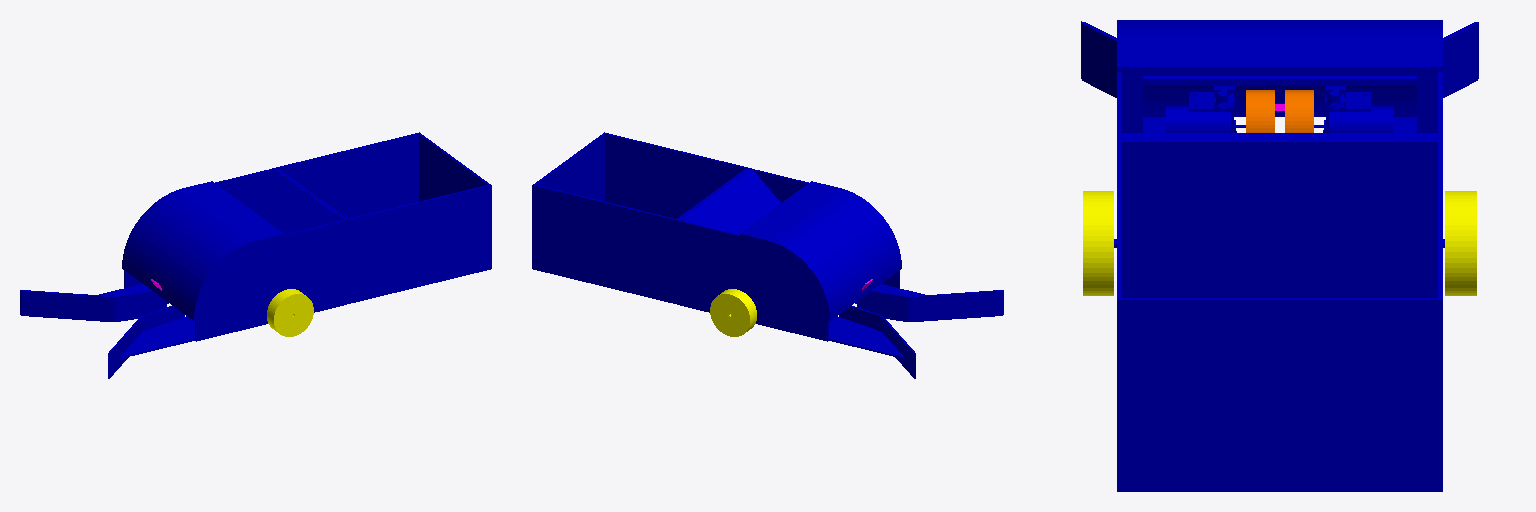
The robot description file, URDF, robot "TRR":
<!-- ======================================== Author: [author] ========================================  -->

<!-- ================================== Tennis ball Retrieval Robot =================================== -->
<robot name="TRR">

<!-- ============================================= Colors ============================================= -->
  <!-- Orange-->
  <material name="orange">
    <color rgba="1.0 0.5 0.0 1.0"/>
  </material>

  <!-- Blue--> 
  <material name="blue">
    <color rgba="0 0 0.8 1"/>
  </material>

  <!-- Yellow-->
  <material name="yellow">
    <color rgba="1 1 0 1"/>
  </material>

  <!-- Purple-->
  <material name="purple">
    <color rgba="1 0 1 1"/>
  </material>


<!-- ============================================= Components ============================================ -->
  <!-- Base-->
  <link name="base_link">
  </link>

  <!-- Frame-->
  <link name="frame_link">
    <visual>
      <material name="blue"/>
      <geometry>
        <mesh filename="package://my_robot/meshes/base2.stl" scale="0.001 0.001 0.001"/>
      </geometry>
      <origin xyz="0 0 0" rpy="0 0.0 3.1415"/>
    </visual>

    <collision>
      <geometry>
        <mesh filename="package://my_robot/meshes/base2.stl" scale="0.001 0.001 0.001"/>
      </geometry>
      <origin xyz="0 0 0" rpy="0 0.0 3.1415"/>
    </collision>

    <inertial>
      <mass value="20"/>
      <inertia ixx="1.0" ixy="0.0" ixz="0.0" iyy="1.0" iyz="0.0" izz="1.0"/>
      <origin xyz="-0.1 0 0" rpy="0.0 0.0 0.0"/>
    </inertial>
  </link>
  
  <!-- Base => Frame -->
  <joint name="frame_joint" type="fixed">
    <parent link="base_link"/>
    <child link="frame_link"/>
  </joint>

  <!-- Left active wheel-->
  <link name="left_active_wheel_link">
    <visual>
      <material name="yellow"/>
      <geometry>
        <mesh filename="package://my_robot/meshes/main_wheel.stl" scale="0.001 0.001 0.001"/>
      </geometry>
    </visual>

    <collision>
      <geometry>
        <mesh filename="package://my_robot/meshes/main_wheel.stl" scale="0.001 0.001 0.001"/>
      </geometry>
    </collision>

    <inertial>
        <mass value="0.18"/>
        <inertia ixx="0.1" ixy="0.0" ixz="0.0" iyy="0.1" iyz="0.0" izz="0.1"/>
    </inertial>
  </link>

  <!-- Frame => Left active wheel -->
  <joint name="left_active_wheel_joint" type="continuous">
    <parent link="frame_link"/> 
    <child link="left_active_wheel_link"/>
    <origin xyz="-0.15 -0.187 0.0225" rpy="0 0.0 0.0"/>
    <axis xyz="0 1 0"/>
  </joint>

  <!-- Right active wheel-->
  <link name="right_active_wheel_link">
    <visual>
      <material name="yellow"/>
      <geometry>
        <mesh filename="package://my_robot/meshes/main_wheel.stl" scale="0.001 0.001 0.001"/>
      </geometry>
    </visual>

    <collision>
      <geometry>
        <mesh filename="package://my_robot/meshes/main_wheel.stl" scale="0.001 0.001 0.001"/>
      </geometry>
    </collision>

    <inertial>
        <mass value="0.18"/>
        <inertia ixx="0.1" ixy="0.0" ixz="0.0" iyy="0.1" iyz="0.0" izz="0.1"/>
    </inertial>
  </link>

  <!-- Frame => Right active wheel -->
  <joint name="right_active_wheel_joint" type="continuous">
    <parent link="frame_link"/> 
    <child link="right_active_wheel_link"/>
    <origin xyz="-0.15 0.157 0.0225" rpy="0 0.0 0.0"/>
    <axis xyz="0 1 0"/>
  </joint>

    <!-- Base left oriented wheel-->
  <link name="base_left_oriented_wheel_link">
    <visual>
      <material name="orange"/>
      <geometry>
        <mesh filename="package://my_robot/meshes/oriented_link2.stl" scale="0.001 0.001 0.001"/>
      </geometry>
      <origin xyz="0 0 0" rpy="-1.57075 0.0 0.0"/>
    </visual>

    <collision>
      <geometry>
        <mesh filename="package://my_robot/meshes/oriented_link2.stl" scale="0.001 0.001 0.001"/>
      </geometry>
      <origin xyz="0 0 0" rpy="-1.57075 0.0 0.0"/>
    </collision>

    <inertial>
        <mass value="0.016"/>
        <inertia ixx="1e-6" ixy="0.0" ixz="0.0" iyy="1e-6" iyz="0.0" izz="1e-6"/>
    </inertial>
  </link>

  <!-- Frame => Base left oriented wheel -->
  <joint name="base_left_oriented_wheel_joint" type="continuous">
    <parent link="frame_link"/> 
    <child link="base_left_oriented_wheel_link"/>
    <origin xyz="0.233376 -0.0825 0" rpy="0 0.0 0.0"/>
    <axis xyz="0 0 1"/>
  </joint>

  <!-- Left oriented wheel-->
  <link name="left_oriented_wheel_link">
    <visual>
      <material name="orange"/>
      <geometry>
        <mesh filename="package://my_robot/meshes/oriented_wheel.stl" scale="0.001 0.001 0.001"/>
      </geometry>
    </visual>

    <collision>
      <geometry>
        <mesh filename="package://my_robot/meshes/oriented_wheel.stl" scale="0.001 0.001 0.001"/>
      </geometry>
    </collision>

    <inertial>
        <mass value="0.016"/>
        <inertia ixx="1e-6" ixy="0.0" ixz="0.0" iyy="1e-6" iyz="0.0" izz="1e-6"/>
    </inertial>
  </link>

  <!-- Base left oriented wheel => Left oriented wheel -->
  <joint name="left_oriented_wheel_joint" type="continuous">
    <parent link="base_left_oriented_wheel_link"/> 
    <child link="left_oriented_wheel_link"/>
    <origin xyz="0 -0.0055 -0.015" rpy="0 0.0 0"/>
    <axis xyz="0 1 0"/>
  </joint>

  <!-- Base right oriented wheel-->
  <link name="base_right_oriented_wheel_link">
    <visual>
      <material name="orange"/>
      <geometry>
        <mesh filename="package://my_robot/meshes/oriented_link2.stl" scale="0.001 0.001 0.001"/>
      </geometry>
      <origin xyz="0 0 0" rpy="-1.57075 0.0 0.0"/>
    </visual>

    <collision>
      <geometry>
        <mesh filename="package://my_robot/meshes/oriented_link2.stl" scale="0.001 0.001 0.001"/>
      </geometry>
    </collision>

    <inertial>
        <mass value="0.016"/>
        <inertia ixx="1e-6" ixy="0" ixz="0" iyy="1e-6" iyz="0.0" izz="1e-6"/>
      <origin xyz="0 0 0" rpy="-1.57075 0.0 0.0"/>
    </inertial>
  </link>

  <!-- Frame => Base right oriented wheel -->
  <joint name="base_right_oriented_wheel_joint" type="continuous">
    <parent link="frame_link"/> 
    <child link="base_right_oriented_wheel_link"/>
    <origin xyz="0.233376 0.0825 0" rpy="0 0.0 0.0"/>
    <axis xyz="0 0 1"/>
  </joint>

  <!-- Right oriented wheel-->
  <link name="right_oriented_wheel_link">
    <visual>
      <material name="orange"/>
      <geometry>
        <mesh filename="package://my_robot/meshes/oriented_wheel.stl" scale="0.001 0.001 0.001"/>
      </geometry>
    </visual>

    <collision>
      <geometry>
        <mesh filename="package://my_robot/meshes/oriented_wheel.stl" scale="0.001 0.001 0.001"/>
      </geometry>
    </collision>

    <inertial>
        <mass value="0.016"/>
        <inertia ixx="1e-6" ixy="0.0" ixz="0.0" iyy="1e-6" iyz="0.0" izz="1e-6"/>
    </inertial>
  </link>

  <!-- Base right oriented wheel => Right orriented wheel -->
  <joint name="right_oriented_wheel_joint" type="continuous">
    <parent link="base_right_oriented_wheel_link"/> 
    <child link="right_oriented_wheel_link"/>
    <origin xyz="0 -0.0055 -0.015" rpy="0 0.0 0"/>
    <axis xyz="0 1 0"/>
  </joint>

  <!-- Left shooting wheel-->
  <link name="left_shooting_wheel_link">
    <visual>
      <origin rpy="0 0 0" xyz="0 0 0"/>
      <material name="orange"/>
      <geometry>
        <mesh filename="package://my_robot/meshes/shooting_wheel.stl" scale="0.001 0.001 0.001"/>
      </geometry>
    </visual>

    <collision>
      <geometry>
        <mesh filename="package://my_robot/meshes/shooting_wheel.stl" scale="0.001 0.001 0.001"/>
      </geometry>
    </collision>

    <inertial>
        <mass value="0.1"/>
        <inertia ixx="0.1" ixy="0.0" ixz="0.0" iyy="0.1" iyz="0.0" izz="0.1"/>
    </inertial>
  </link>

  <!-- Frame => Left shooting wheel-->
  <joint name="left_shooting_wheel_joint" type="continuous">
    <parent link="frame_link"/> 
    <child link="left_shooting_wheel_link"/>
    <origin xyz="-0.315 -0.032 0.07" rpy="0 0 0"/>
        <axis xyz="0 1 0"/>
  </joint>

  <!-- Right shooting wheel-->
  <link name="right_shooting_wheel_link">
    <visual>
      <origin rpy="0 0 0" xyz="0 0 0"/>
      <material name="orange"/>
      <geometry>
        <mesh filename="package://my_robot/meshes/shooting_wheel.stl" scale="0.001 0.001 0.001"/>
      </geometry>
    </visual>

    <collision>
      <geometry>
        <mesh filename="package://my_robot/meshes/shooting_wheel.stl" scale="0.001 0.001 0.001"/>
      </geometry>
    </collision>

    <inertial>
        <mass value="0.1"/>
        <inertia ixx="0.1" ixy="0.0" ixz="0.0" iyy="0.1" iyz="0.0" izz="0.1"/>
    </inertial>
  </link>

  <!-- Frame => Right shooting wheel-->
  <joint name="right_shooting_wheel_joint" type="continuous">
    <parent link="frame_link"/> 
    <child link="right_shooting_wheel_link"/>
    <origin xyz="-0.315 0.005 0.07" rpy="0 0 0"/>
        <axis xyz="0 1 0"/>
  </joint>

  <!-- Camera Link -->
  <link name="camera_link">
    <visual>
      <origin rpy="0 0 0" xyz="0 0 0"/>
      <material name="purple"/>
      <geometry>
        <box size="0.003 0.03 0.03"/>
      </geometry>
    </visual>

    <collision>
      <geometry>
        <box size="0.03 0.03 0.003"/>
      </geometry>
    </collision>

    <inertial>
      <mass value="0.0024" />
      <inertia ixx="1e-6" ixy="0" ixz="0" iyy="1e-6" iyz="0" izz="1e-6" />
    </inertial>

  </link>

  <!-- Camera Joint (Fixed) -->
  <joint name="camera_joint" type="fixed">
      <parent link="frame_link"/>
      <child link="camera_link"/>
      <origin xyz="-0.38 0.0 0.07" rpy="0.0 0.52358 3.1415"/>
  </joint>  

<!-- ============================================= Transmission ============================================ -->
  <!-- Right Front Wheel Transmission -->
  <transmission name="tran1">
      <type>transmission_interface/SimpleTransmission</type>
      <joint name="left_active_wheel_joint">
          <hardwareInterface>hardware_interface/EffortJointInterface</hardwareInterface>
      </joint>
      <actuator name="motor1">
          <hardwareInterface>hardware_interface/EffortJointInterface</hardwareInterface>
          <mechanicalReduction>1</mechanicalReduction>
      </actuator>
  </transmission>

  <!-- Left Front Wheel Transmission -->
  <transmission name="tran2">
      <type>transmission_interface/SimpleTransmission</type>
      <joint name="right_active_wheel_joint">
          <hardwareInterface>hardware_interface/EffortJointInterface</hardwareInterface>
      </joint>
      <actuator name="motor2">
          <hardwareInterface>hardware_interface/EffortJointInterface</hardwareInterface>
          <mechanicalReduction>1</mechanicalReduction>
      </actuator>
  </transmission>

  <!-- Right Shoot Wheel Transmission -->
  <transmission name="tran3">
      <type>transmission_interface/SimpleTransmission</type>
      <joint name="left_shooting_wheel_joint">
          <hardwareInterface>hardware_interface/EffortJointInterface</hardwareInterface>
      </joint>
      <actuator name="motor3">
          <hardwareInterface>hardware_interface/EffortJointInterface</hardwareInterface>
          <mechanicalReduction>1</mechanicalReduction>
      </actuator>
  </transmission>

  <!-- Left Shoot Wheel Transmission -->
  <transmission name="tran4">
      <type>transmission_interface/SimpleTransmission</type>
      <joint name="right_shooting_wheel_joint">
          <hardwareInterface>hardware_interface/EffortJointInterface</hardwareInterface>
      </joint>
      <actuator name="motor4">
          <hardwareInterface>hardware_interface/EffortJointInterface</hardwareInterface>
          <mechanicalReduction>1</mechanicalReduction>
      </actuator>
  </transmission>

<!-- ================================================== Gazebo ====================================================== -->
  <!-- Gazebo Visual Properties -->
  <gazebo reference="frame_link">
      <material>Gazebo/Blue</material>
  </gazebo>
  <gazebo reference="left_active_wheel_link">
      <material>Gazebo/Yellow</material>
  </gazebo>
  <gazebo reference="right_active_wheel_link">
      <material>Gazebo/Yellow</material>
  </gazebo>
  <gazebo reference="base_left_oriented_wheel_link">
      <material>Gazebo/Orange</material>
  </gazebo>
  <gazebo reference="base_right_oriented_wheel_link">
      <material>Gazebo/Orange</material>
  </gazebo>
  <gazebo reference="left_oriented_wheel_link">
      <material>Gazebo/Orange</material>
  </gazebo>
  <gazebo reference="right_oriented_wheel_link">
      <material>Gazebo/Orange</material>
  </gazebo>
  <gazebo reference="left_shooting_wheel_link">
      <material>Gazebo/Orange</material>
  </gazebo>
  <gazebo reference="right_shooting_wheel_link">
      <material>Gazebo/Orange</material>
  </gazebo>

  <!-- Camera Sensor -->
  <gazebo reference="camera_link">
    <material>Gazebo/Purple</material>
    <sensor type="camera" name="camera1">
      <update_rate>30.0</update_rate>
      <camera name="head">
        <horizontal_fov>1.3962634</horizontal_fov>
        <image>
          <width>640</width>
          <height>480</height>
          <format>R8G8B8</format>
        </image>
        <clip>
          <near>0.02</near>
          <far>300</far>
        </clip>
        <noise>
          <type>gaussian</type>
          <mean>0.0</mean>
          <stddev>0.007</stddev>
        </noise>
      </camera>
      <plugin name="camera_controller" filename="libgazebo_ros_camera.so">
        <alwaysOn>true</alwaysOn>
        <updateRate>0.0</updateRate>
        <cameraName>my_robot/camera1</cameraName>
        <imageTopicName>image_raw</imageTopicName>
        <cameraInfoTopicName>camera_info</cameraInfoTopicName>
        <frameName>camera_link</frameName>
        <hackBaseline>0.07</hackBaseline>
        <distortionK1>0.0</distortionK1>
        <distortionK2>0.0</distortionK2>
        <distortionK3>0.0</distortionK3>
        <distortionT1>0.0</distortionT1>
        <distortionT2>0.0</distortionT2>
      </plugin>
    </sensor>
  </gazebo>

  <!-- Gazebo ROS Control Plugin -->
  <gazebo>
      <plugin name="gazebo_ros_control" filename="libgazebo_ros_control.so">
          <robotNamespace>/my_TRR</robotNamespace>
      </plugin>
  </gazebo>

</robot>

--- Facts derived from the render (not from the file) ---
Views: 3 orthographic renders of the robot side by side, from view 1: azimuth 30°, elevation 25°; view 2: azimuth 150°, elevation 25°; view 3: azimuth 270°, elevation 25°.
Robot: TRR — 11 links, 10 joints (8 continuous, 2 fixed); root link base_link; default pose: all joints at 0.
Links seen in each view (by area): view 1: frame_link, left_active_wheel_link; view 2: frame_link, right_active_wheel_link; view 3: frame_link, right_active_wheel_link, left_active_wheel_link, left_shooting_wheel_link, right_shooting_wheel_link.
Boxes of the visible links, x1,y1,x2,y2 form: frame_link: (20,132,491,378); left_active_wheel_link: (267,289,313,336); frame_link: (532,132,1003,378); right_active_wheel_link: (710,289,756,336); frame_link: (1081,20,1478,491); right_active_wheel_link: (1445,191,1476,295); left_active_wheel_link: (1083,191,1113,295); left_shooting_wheel_link: (1246,90,1274,132); right_shooting_wheel_link: (1285,90,1313,132).
Size in the robot's own frame: 0.9728 by 0.377 by 0.2325 metres.
Meshes: 5 distinct files referenced, 9 mesh visuals loaded (5 binary STL).